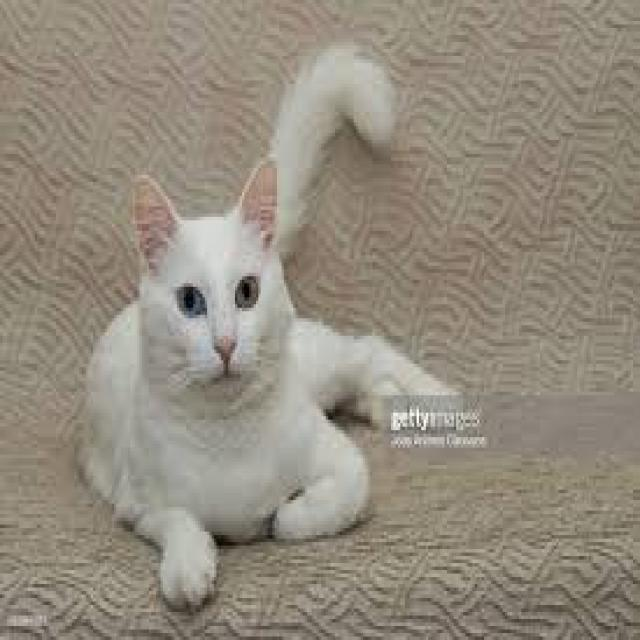Cat: (76, 43, 381, 614)
